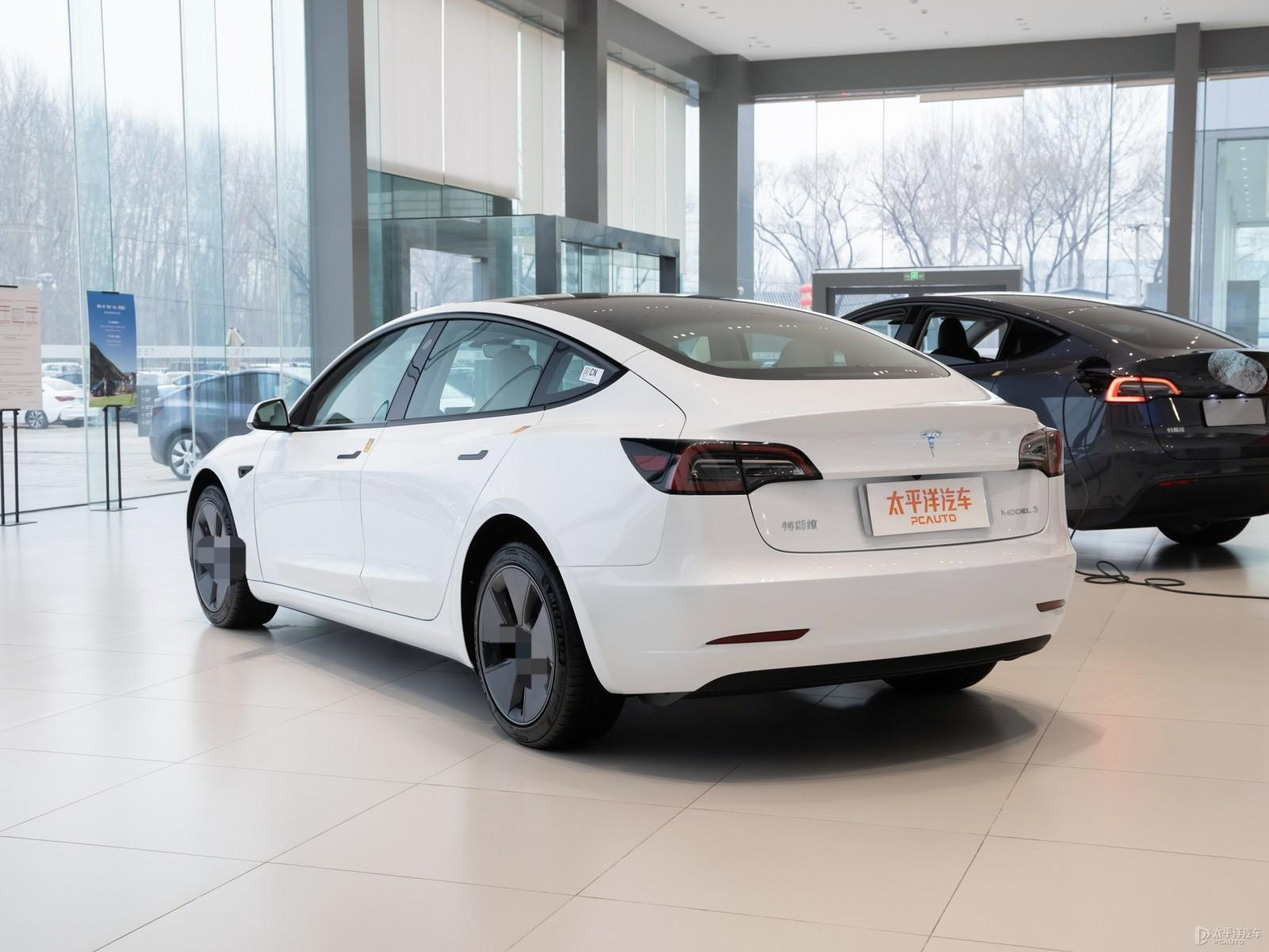Tesla: (921, 428, 942, 458)
